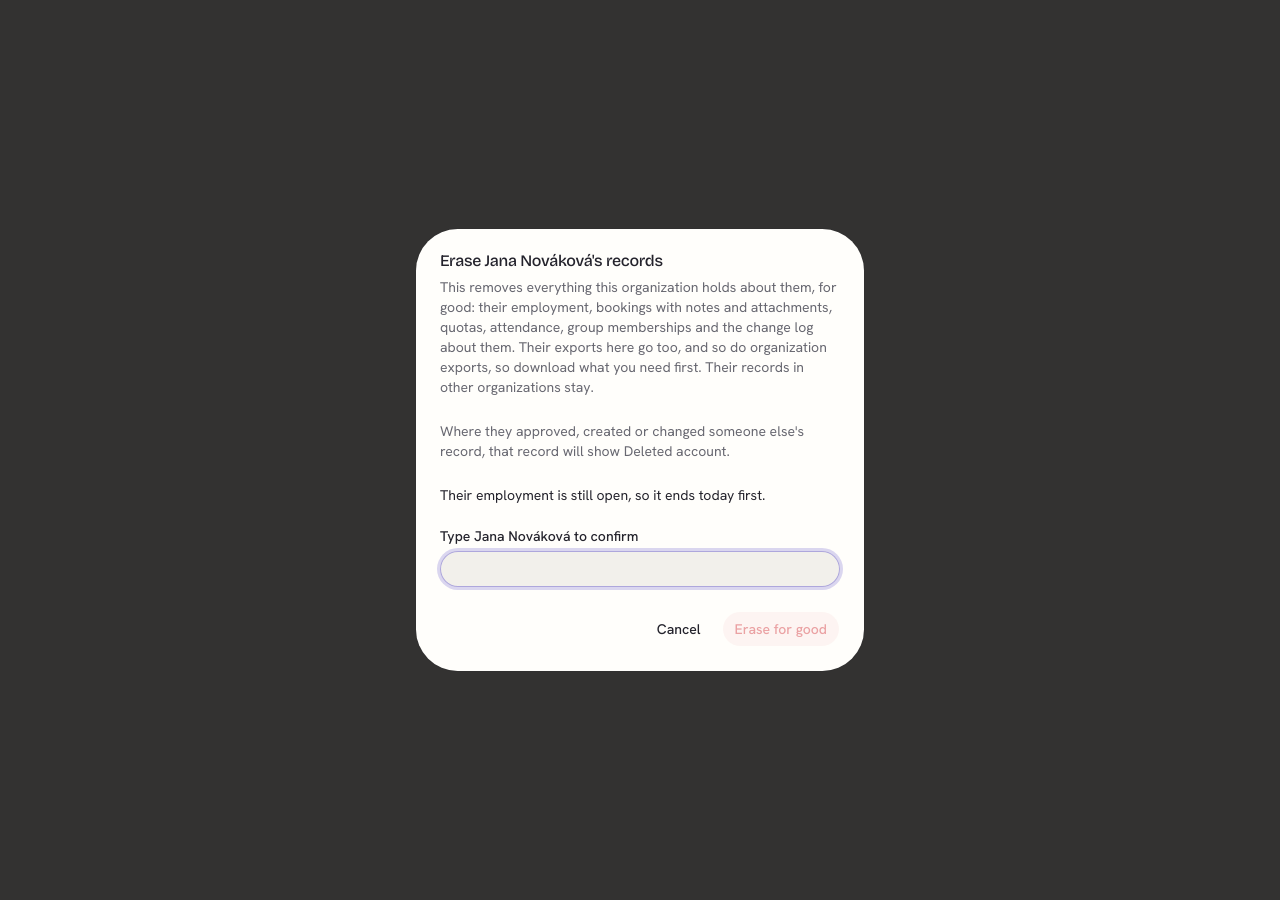
Test: EraseDialog › refuses a name that isn't the person's without asking the server
Type "Jana Novak" into the field labelled "Type Jana Nováková to confirm".
click(640, 569); type("Jana Novak")  # box x1=440 y1=551 x2=840 y2=587
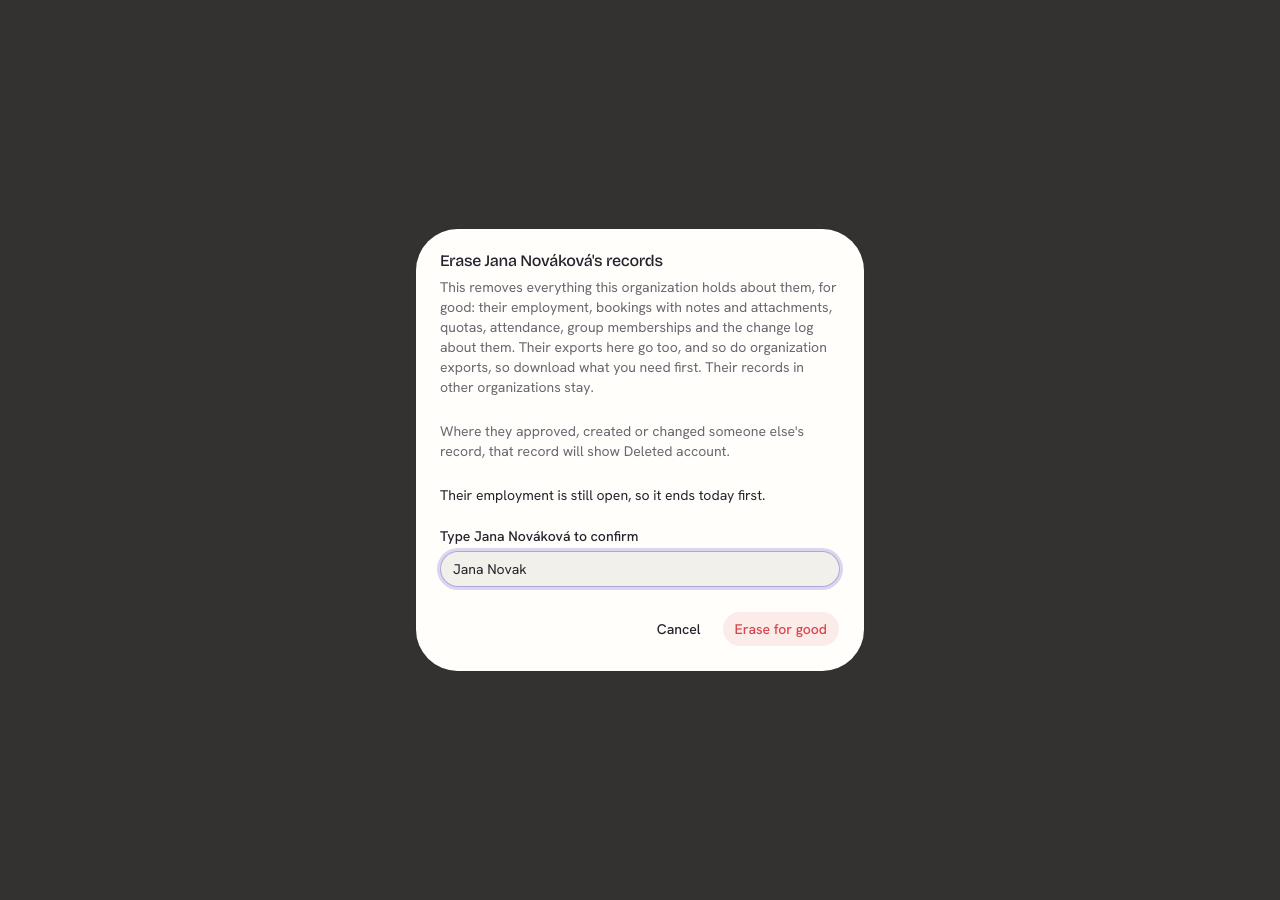
Click the button "Erase for good".
click(781, 629)  # box x1=722 y1=611 x2=840 y2=647
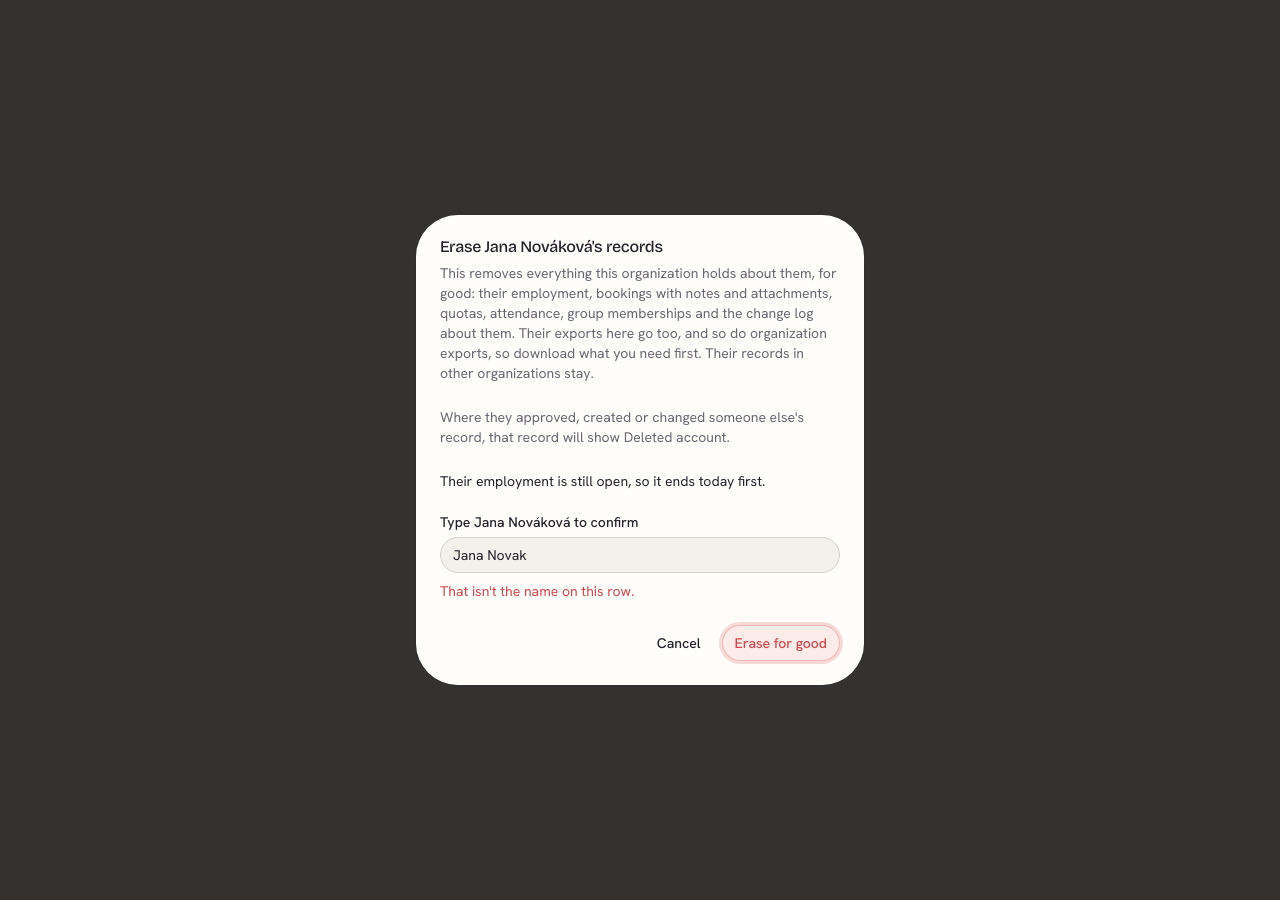
Check: the text "That isn't the name on this row." is shown, box x1=440 y1=582 x2=634 y2=600
